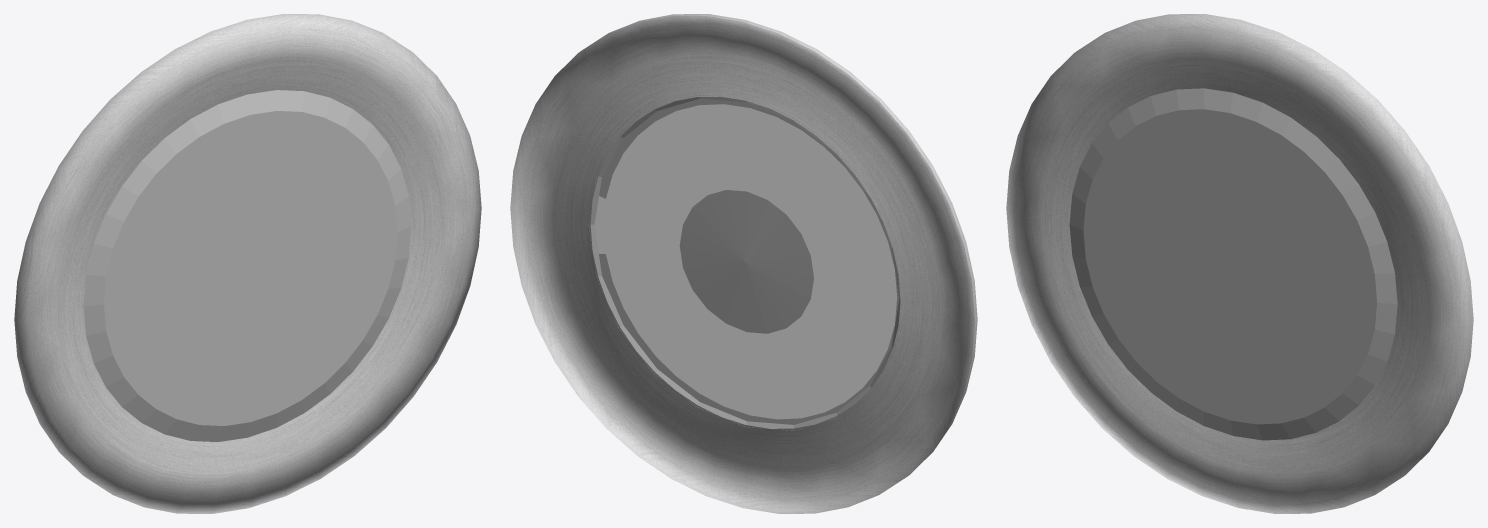
File: mirror5.FBX
3 views of the same model, side by side, from view 1: azimuth 30°, elevation 25°; view 2: azimuth 150°, elevation 25°; view 3: azimuth 330°, elevation 25° (orthographic).
Visible parts, largest first — view 1: Circle001; view 2: Circle001; view 3: Circle001.
Boxes of the visible parts, box(x1,y1,x2,y2) form: Circle001: box(14, 14, 481, 513); Circle001: box(510, 14, 977, 513); Circle001: box(1006, 14, 1473, 513).
Size of the model in its own units: 27.06 by 0.7582 by 27.06.
